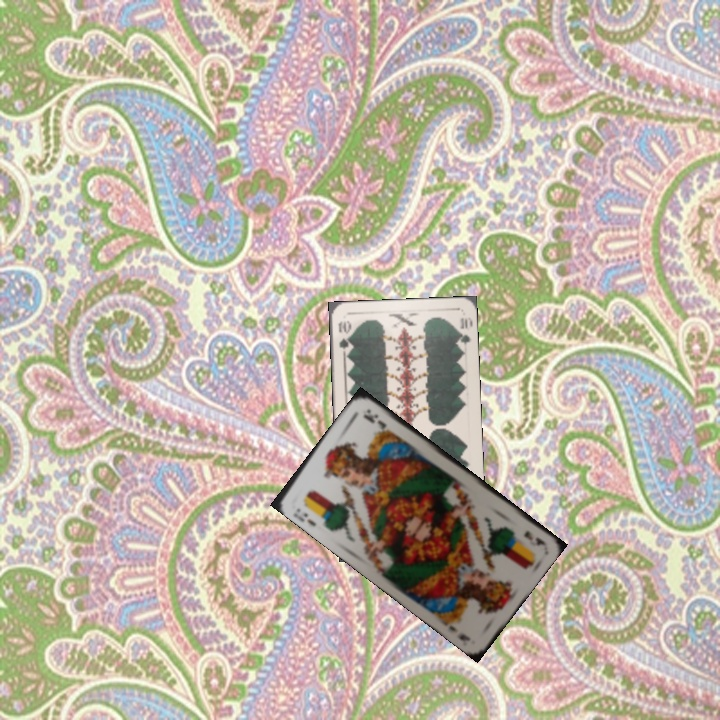EK: (292, 504, 319, 529), (520, 526, 547, 548)
G10: (334, 317, 353, 357)
